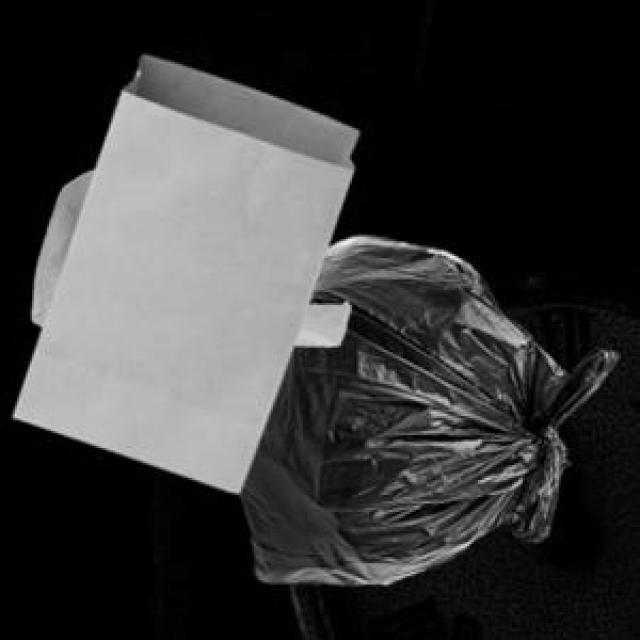miscellaneous trash: (226, 233, 614, 580)
paper: (11, 51, 354, 489)
